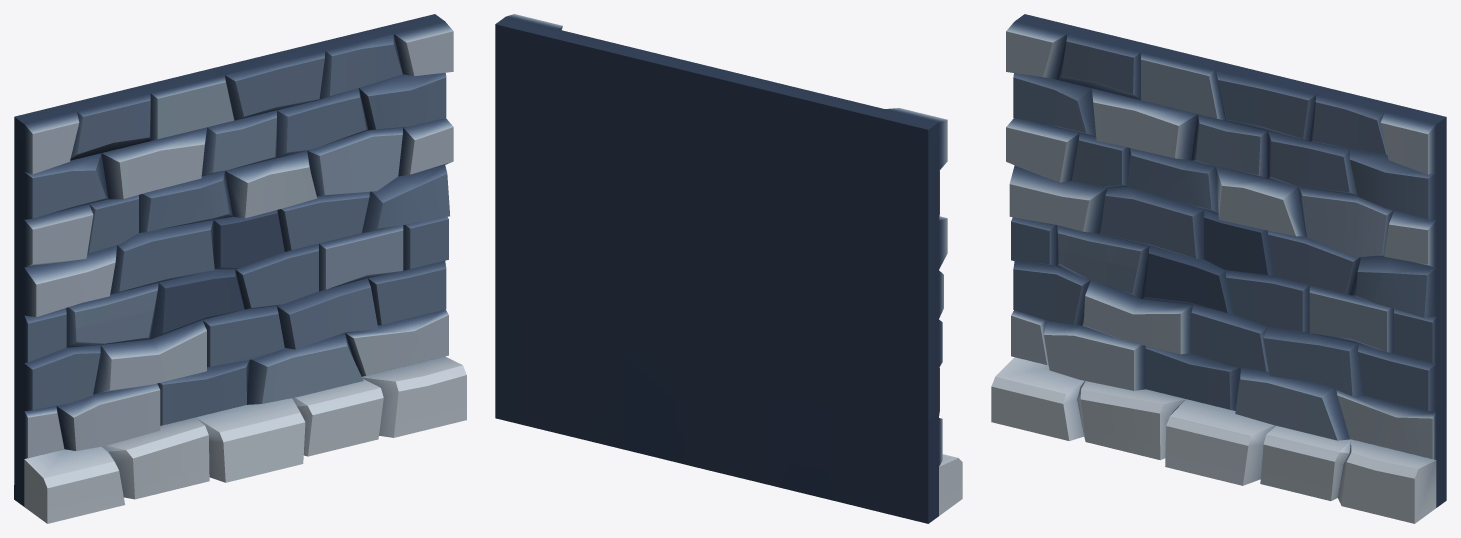
Rendered from Straight_1x6.fbx.
3 views of the same model, side by side, from view 1: azimuth 30°, elevation 25°; view 2: azimuth 150°, elevation 25°; view 3: azimuth 330°, elevation 25° (orthographic). The views are drawn at different scales.
Visible parts, largest first — view 1: polySurface11; view 2: polySurface11; view 3: polySurface11.
Part boxes in pixels (x1,y1,x2,y2): polySurface11: [14, 14, 466, 523]; polySurface11: [495, 14, 962, 523]; polySurface11: [991, 14, 1446, 523].
Size of the model in its own units: 6 by 5.22 by 0.8832.
